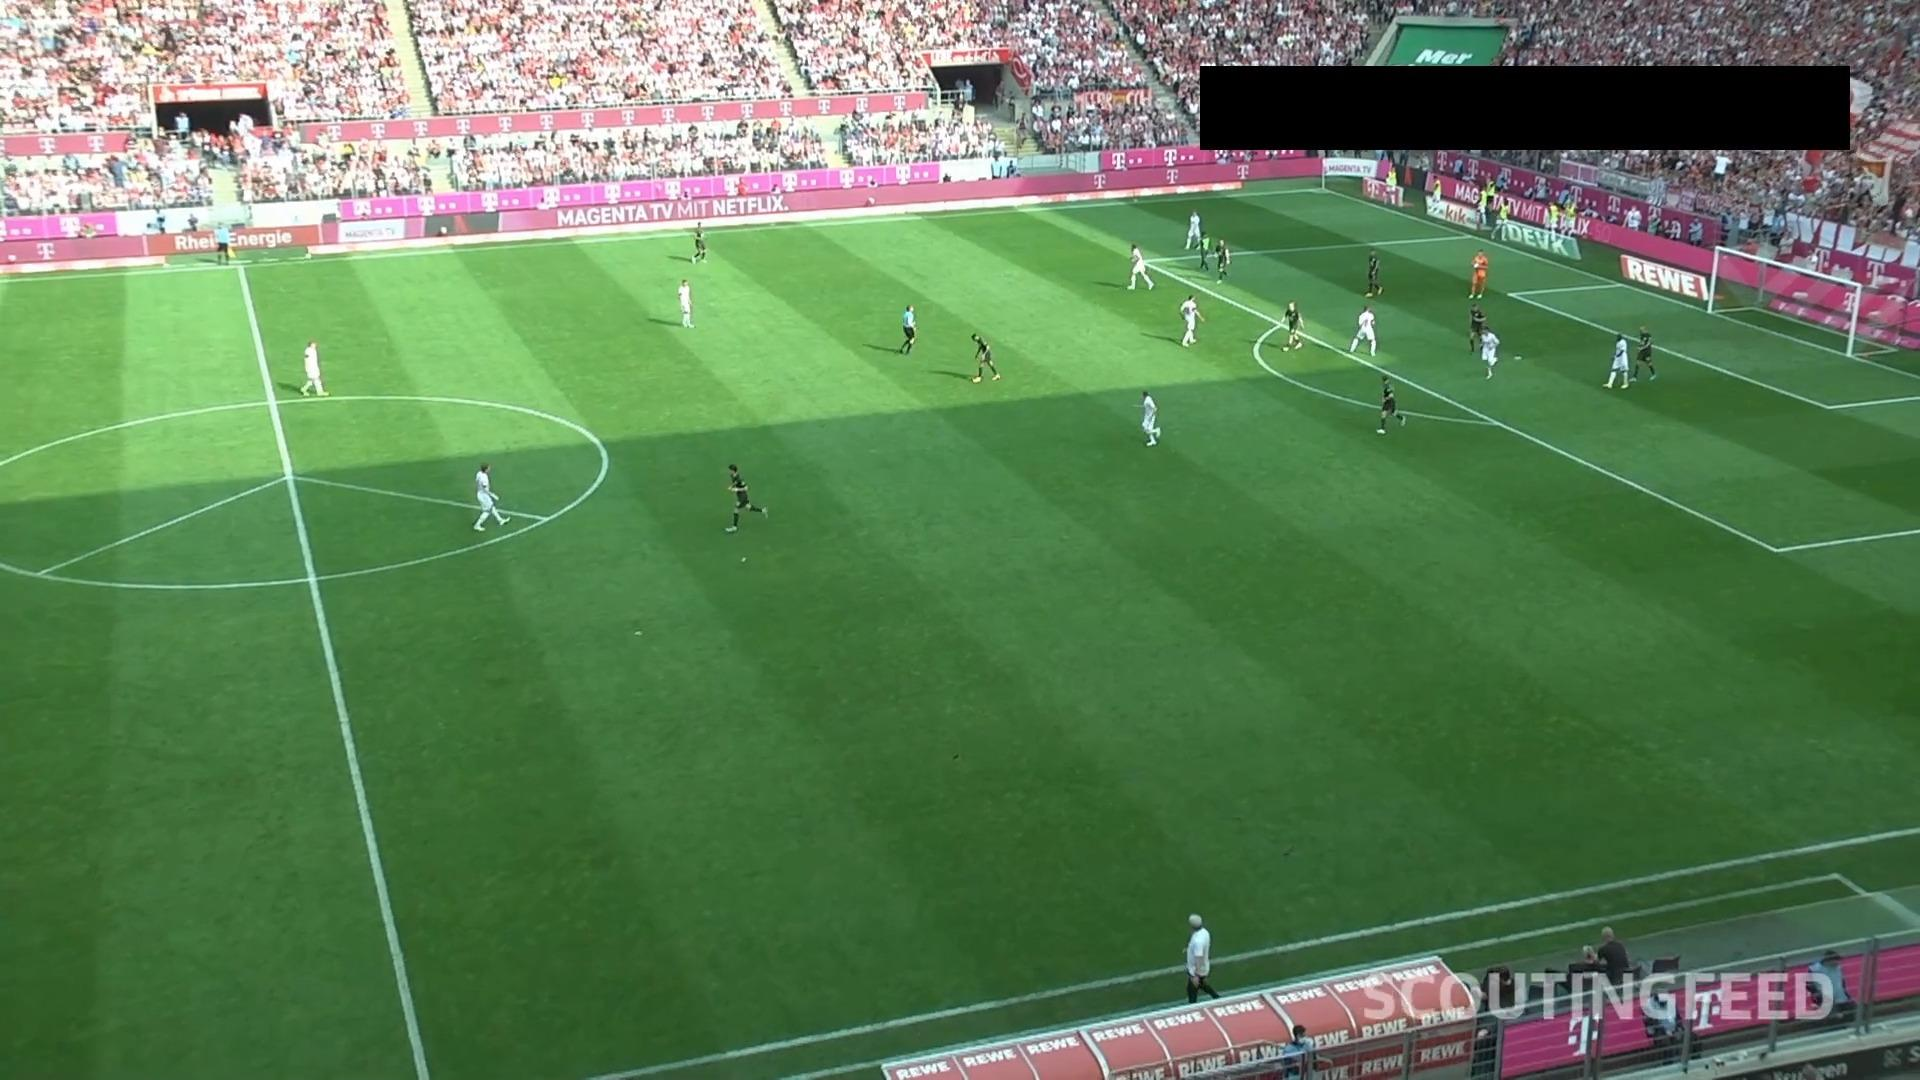ball: (1473, 261, 1481, 269)
